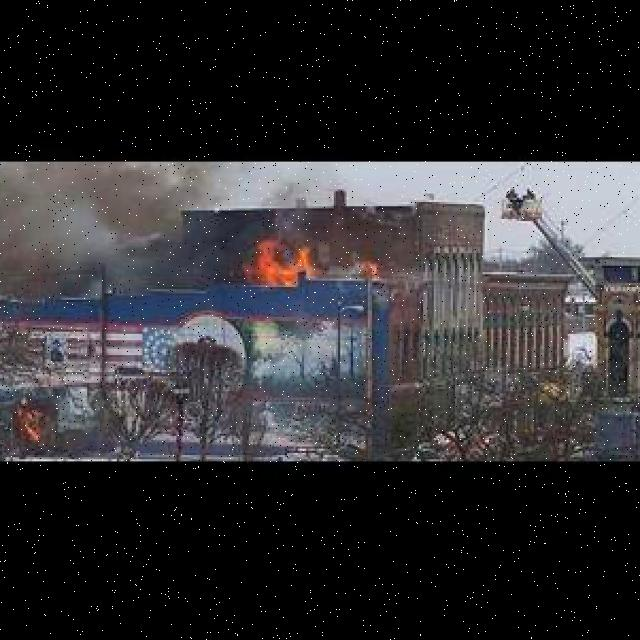fire: (234, 232, 380, 289)
smoke: (0, 166, 231, 310)
